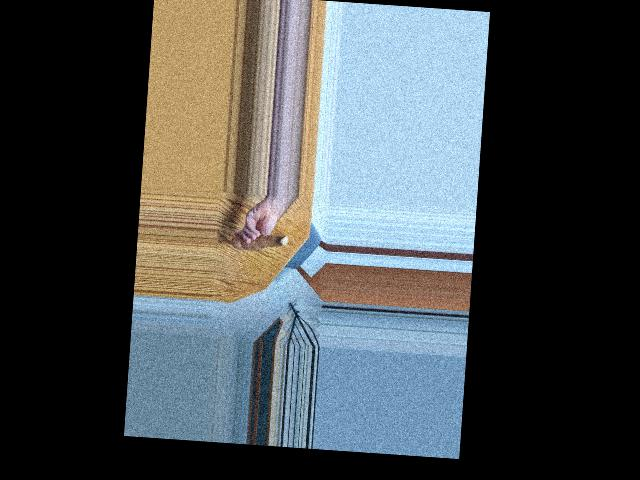sweet_potato: (230, 226, 287, 254)
